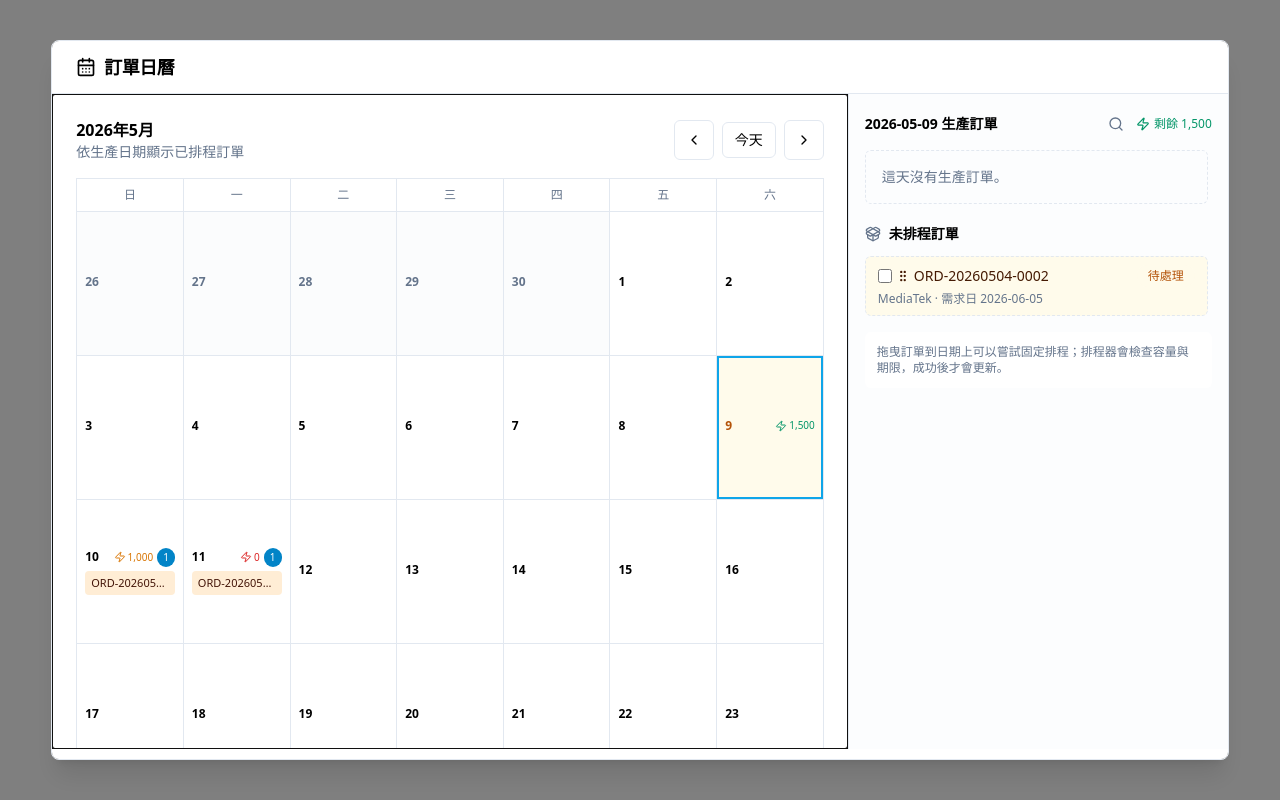
Scenario: OrdersCalendarDialog › shows split production progress across production dates
The image size is (1280, 800).
Step 1. Click the button named "2026-05-10" → (131, 572), box [77,500,184,644]
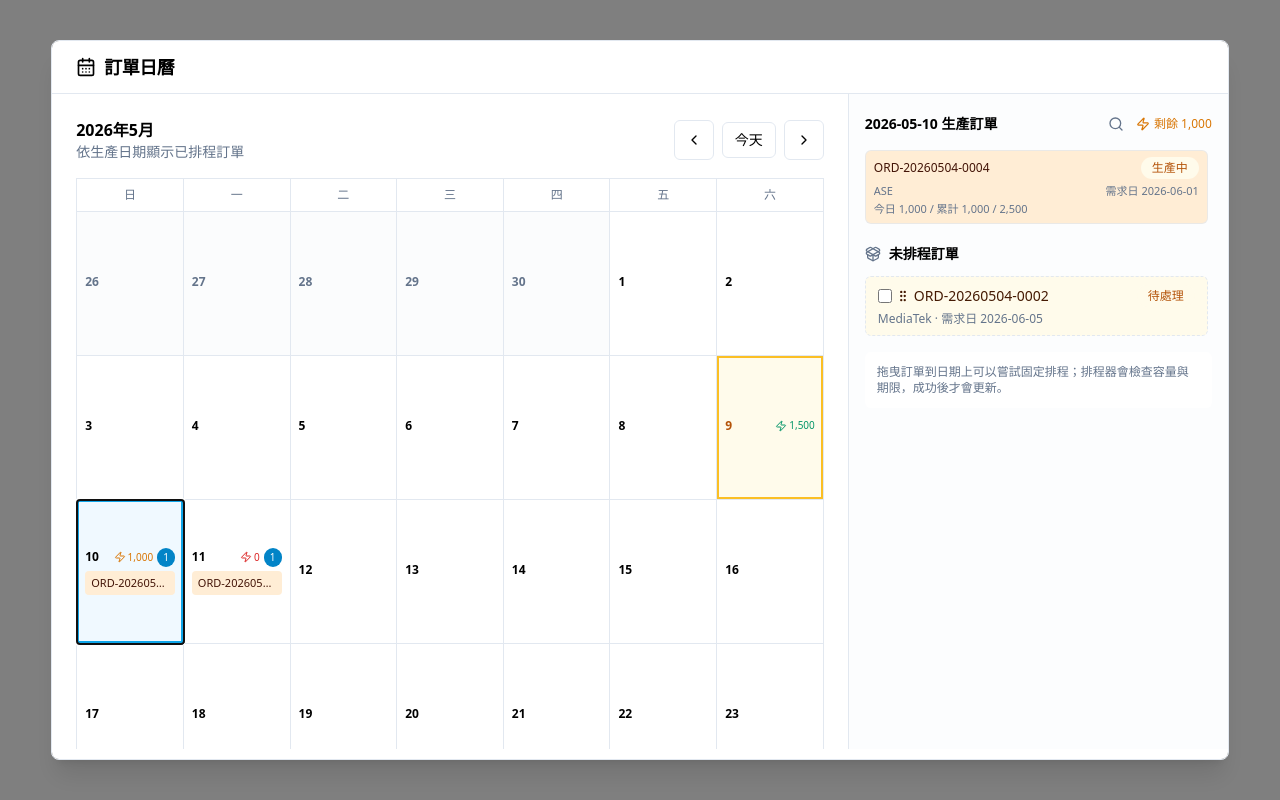
Expected: the text "今日 1,000 / 累計 1,000 / 2,500" is shown, [874,201,1028,216]
Expected: the text "生產中" is shown, [1141,157,1199,179]
Expected: the text "剩餘 1,000" is shown, [1136,116,1212,132]
Step 2. Click the button named "2026-05-11" → (237, 572), box [184,500,291,644]
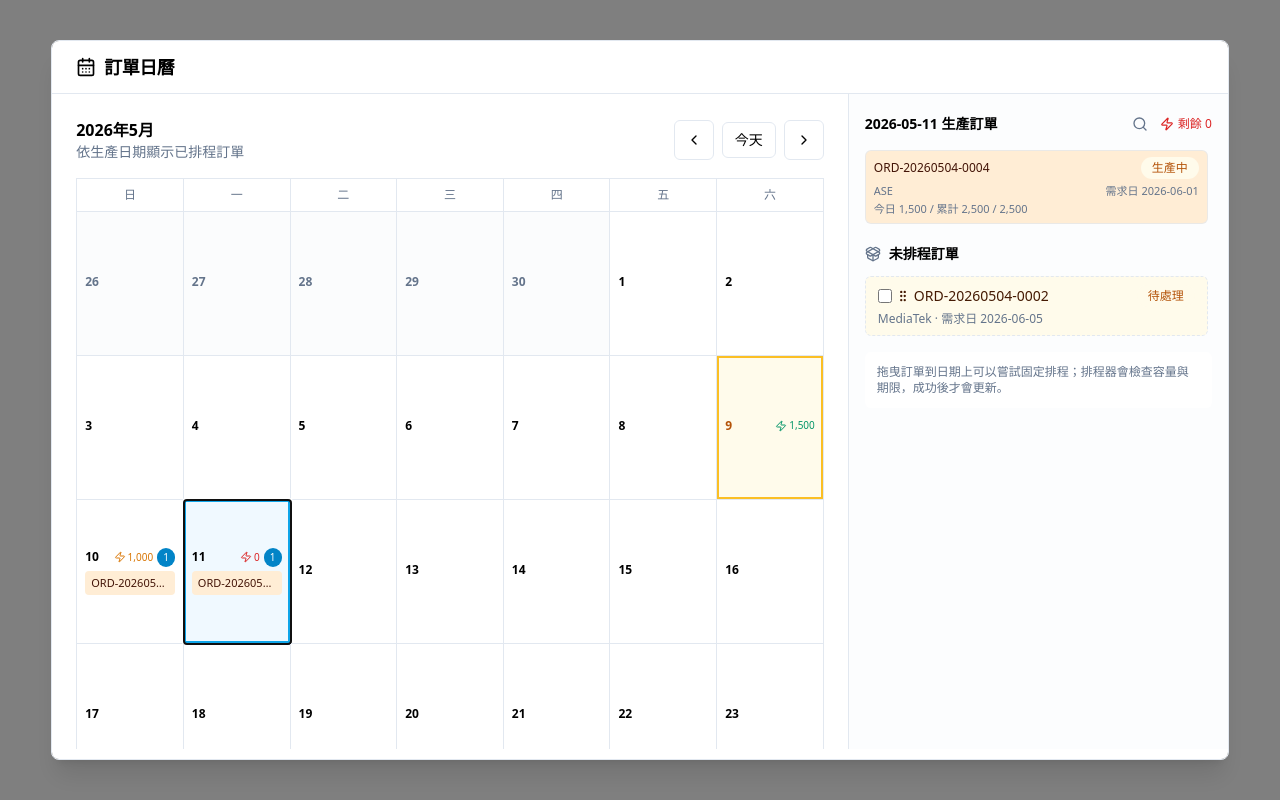
Expected: the text "生產中" is shown, [1141,157,1199,179]
Expected: the text "今日 1,500 / 累計 2,500 / 2,500" is shown, [874,201,1028,216]
Expected: the text "剩餘 0" is shown, [1160,116,1212,132]
